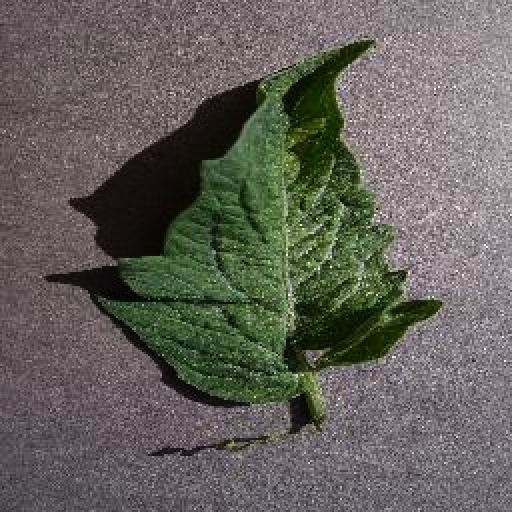disease_tomato: (103, 36, 443, 408)
